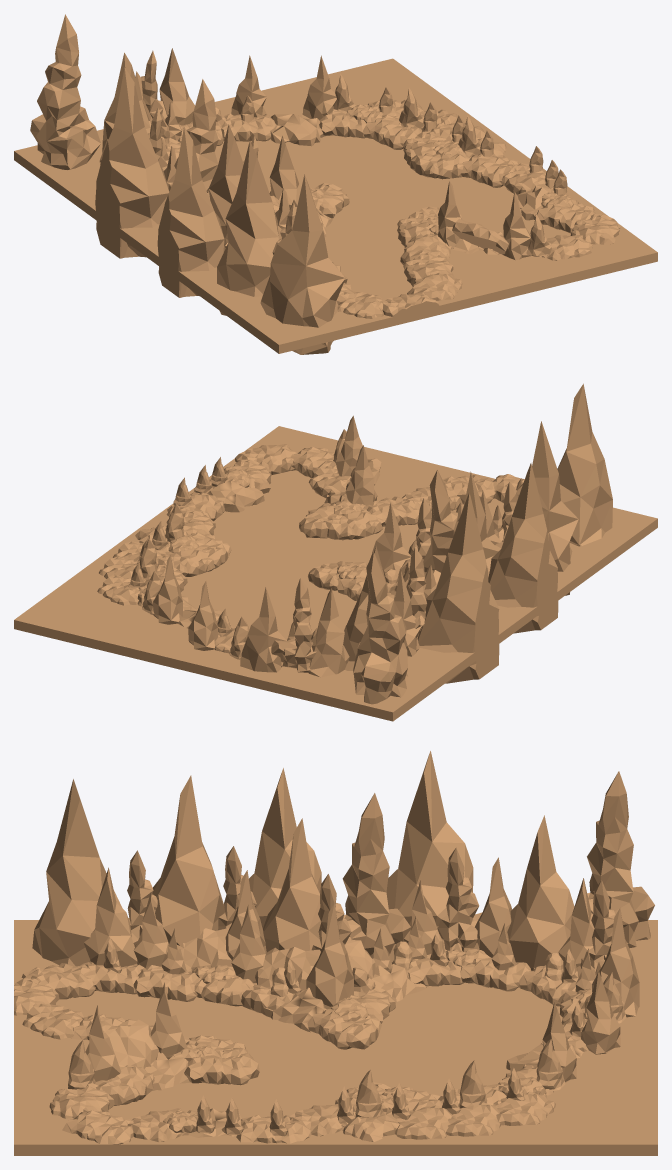
File: карта4 .fbx
3 views of the same model, one above another, from view 1: azimuth 30°, elevation 25°; view 2: azimuth 150°, elevation 25°; view 3: azimuth 270°, elevation 25° (orthographic). The views are drawn at different scales.
Visible parts, largest first — view 1: BézierCurve.004, Plane.003, высокий камень.083, высокий камень.082, высокий камень.081, высокий камень.080, Cube.047, Cube.048, высокий камень.078, высокий камень.071, Cube.043, низкий камень.128 (+29 smaller); view 2: BézierCurve.004, Plane.003, высокий камень.083, высокий камень.081, высокий камень.082, Cube.047, высокий камень.080, высокий камень.074, Cube.048, высокий камень.071, Cube.140, низкий камень.137 (+31 smaller); view 3: Plane.003, BézierCurve.004, высокий камень.082, высокий камень.083, высокий камень.080, Cube.048, высокий камень.079, Cube.047, высокий камень.078, высокий камень.081, высокий камень.069, высокий камень.073 (+58 smaller).
Boxes of the visible parts, box(x1,y1,x2,y2) form: BézierCurve.004: box(14, 58, 657, 353); Plane.003: box(214, 135, 570, 300); высокий камень.083: box(95, 67, 169, 258); высокий камень.082: box(260, 174, 345, 354); высокий камень.081: box(157, 127, 224, 297); высокий камень.080: box(217, 141, 281, 315); Cube.047: box(30, 14, 100, 169); Cube.048: box(168, 79, 218, 198); высокий камень.078: box(208, 124, 243, 252); высокий камень.071: box(159, 48, 194, 125); Cube.043: box(270, 114, 326, 146); низкий камень.128: box(461, 153, 518, 187); BézierCurve.004: box(14, 426, 657, 721); Plane.003: box(181, 470, 504, 640); высокий камень.083: box(417, 492, 499, 683); высокий камень.081: box(488, 463, 558, 633); высокий камень.082: box(557, 383, 612, 546); Cube.047: box(353, 552, 408, 704); высокий камень.080: box(501, 421, 578, 595); высокий камень.074: box(308, 588, 349, 677); Cube.048: box(423, 470, 457, 585); высокий камень.071: box(240, 587, 286, 672); Cube.140: box(282, 578, 316, 672); низкий камень.137: box(323, 508, 383, 540); Plane.003: box(56, 982, 562, 1120); BézierCurve.004: box(14, 920, 657, 1155); высокий камень.082: box(32, 779, 122, 966); высокий камень.083: box(386, 751, 473, 926); высокий камень.080: box(152, 775, 225, 945); Cube.048: box(342, 793, 410, 964); высокий камень.079: box(507, 815, 574, 970); Cube.047: box(587, 771, 654, 948); высокий камень.078: box(263, 818, 321, 952); высокий камень.081: box(249, 768, 321, 928); высокий камень.069: box(306, 903, 353, 1009); высокий камень.073: box(84, 867, 137, 967).
Bounding box in the file's own units: 17966 × 8089 × 21753.
